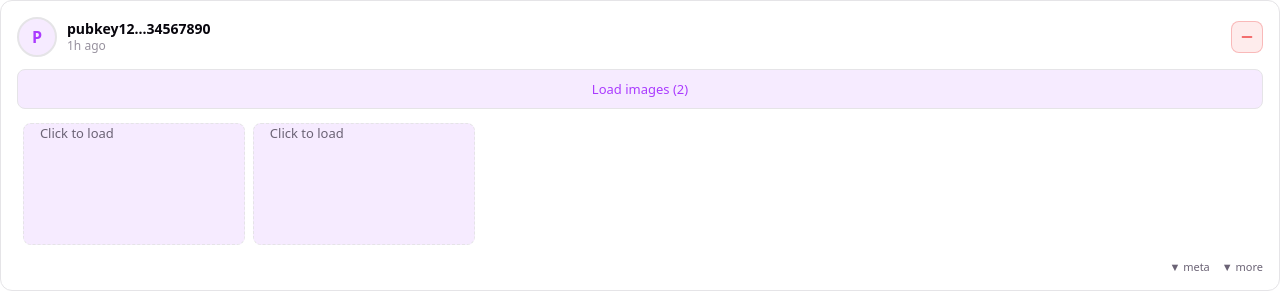
NostrEventCard › should load all images when the load-images button is pressed
Click the button "Load images (2)": (640, 89) x1=17 y1=69 x2=1263 y2=109
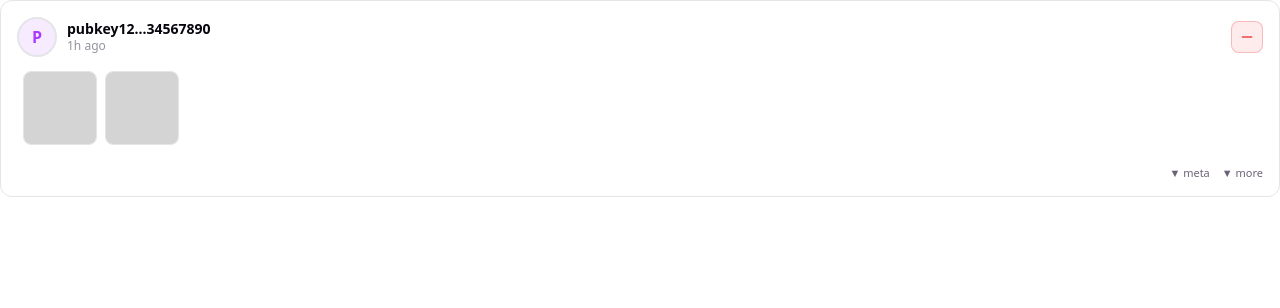
Expected: the button "Load images" is gone
